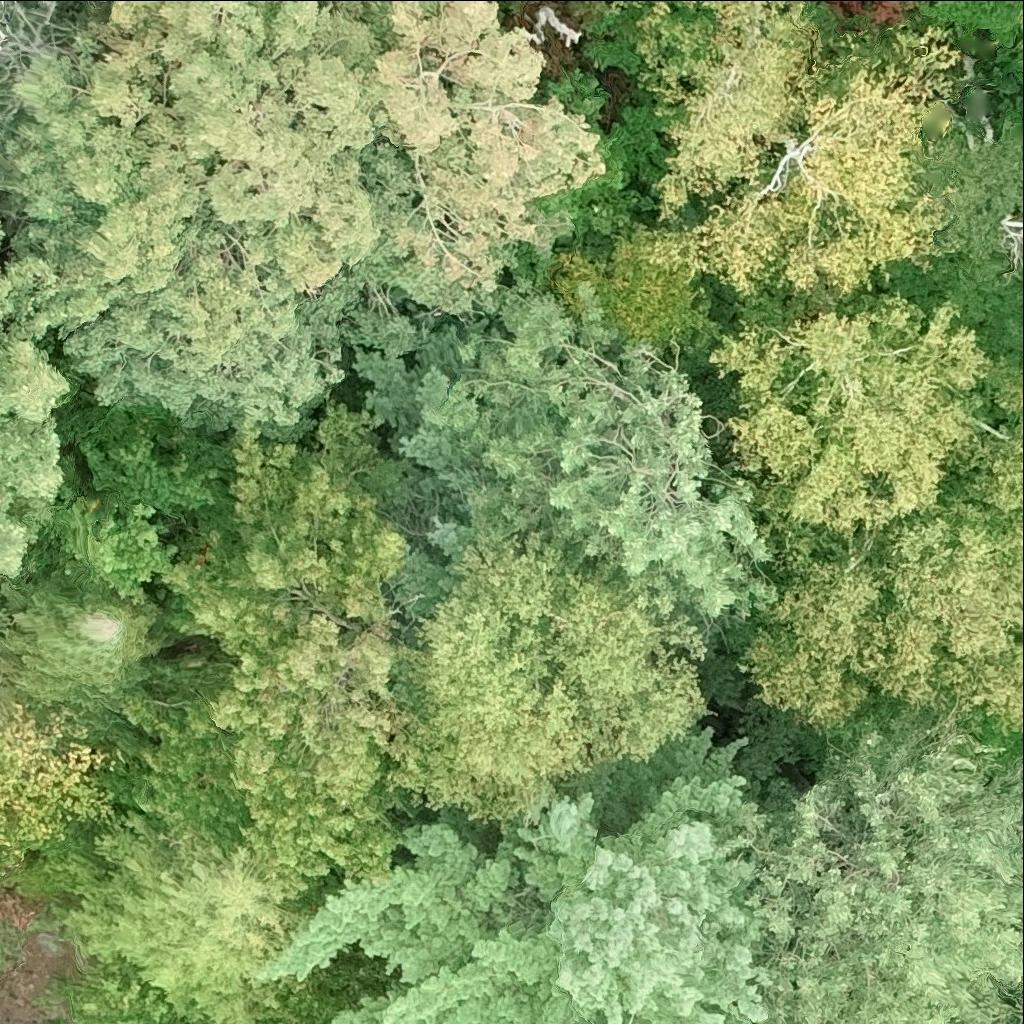crown: (0, 0, 600, 426), (248, 732, 774, 1023), (124, 401, 419, 906), (439, 276, 767, 626), (390, 466, 712, 822), (681, 737, 1023, 1023), (647, 26, 960, 295), (710, 294, 1023, 536), (744, 495, 1023, 731), (67, 813, 304, 1023), (358, 310, 513, 612), (0, 250, 125, 575), (655, 14, 818, 218), (54, 434, 213, 599), (3, 573, 159, 731), (0, 705, 113, 859), (70, 950, 221, 1023), (0, 0, 66, 83), (915, 0, 1023, 46), (684, 0, 786, 24), (991, 978, 1023, 1023), (991, 754, 1023, 787), (708, 1005, 746, 1023), (1001, 381, 1023, 404), (950, 1017, 969, 1023)
